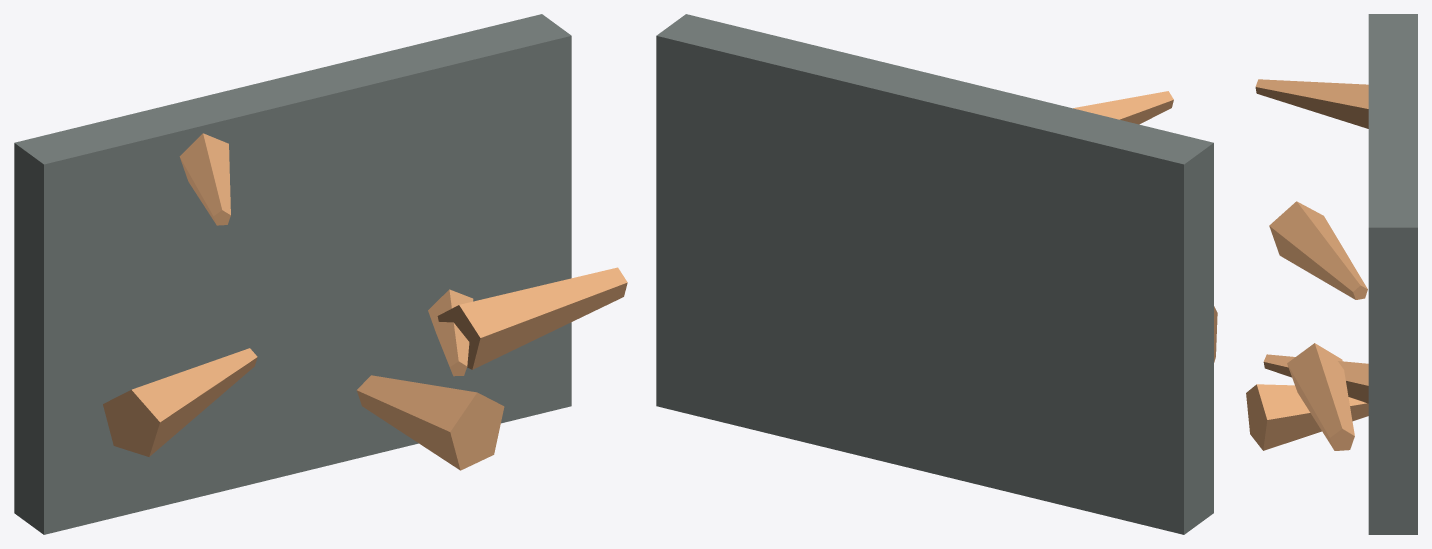
The model's file is mineral_vein_copper_01.glb.
3 views of the same model, side by side, from view 1: azimuth 30°, elevation 25°; view 2: azimuth 150°, elevation 25°; view 3: azimuth 270°, elevation 25° (orthographic). The views are drawn at different scales.
Visible parts, largest first — view 1: mineral_vein_copper_01; view 2: mineral_vein_copper_01; view 3: mineral_vein_copper_01.
Part boxes in pixels (x1=…): mineral_vein_copper_01: x1=14, y1=14, x2=627, y2=534; mineral_vein_copper_01: x1=656, y1=14, x2=1217, y2=534; mineral_vein_copper_01: x1=1246, y1=14, x2=1417, y2=534.
Bounding box in the file's own units: 0.8706 × 0.55 × 0.2788.
